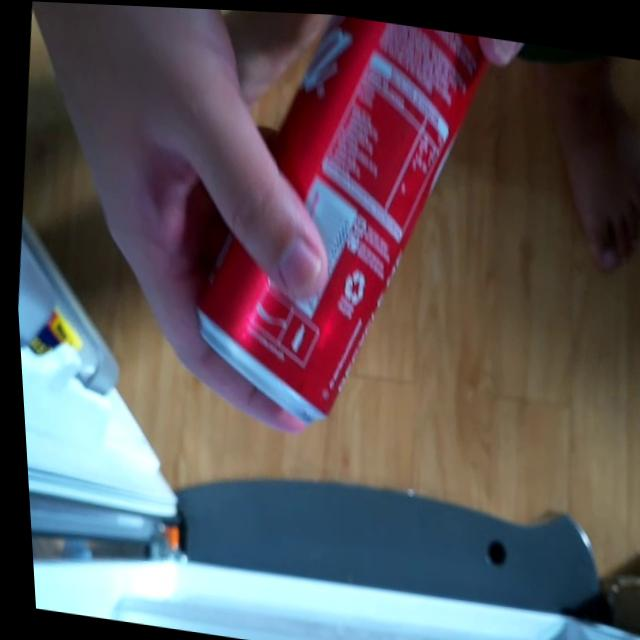coke: (169, 6, 516, 454)
